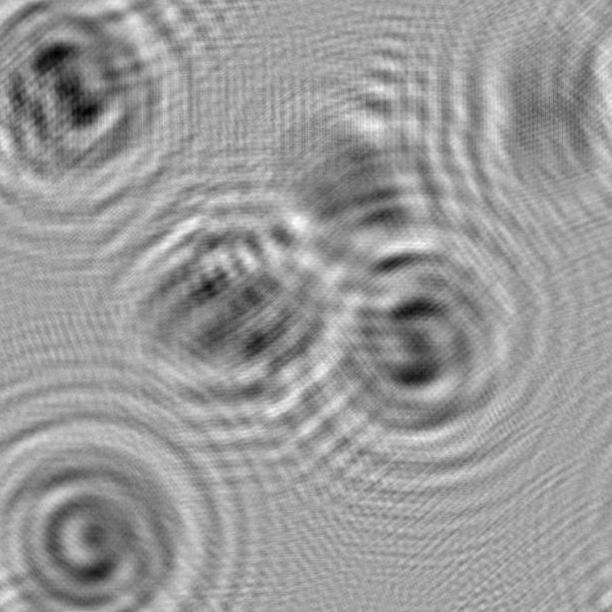B: (0, 0, 211, 226)
G: (0, 385, 247, 612)
I: (431, 0, 612, 251)
N: (102, 179, 372, 434)
S: (274, 180, 574, 492)
Y: (208, 56, 480, 320)
